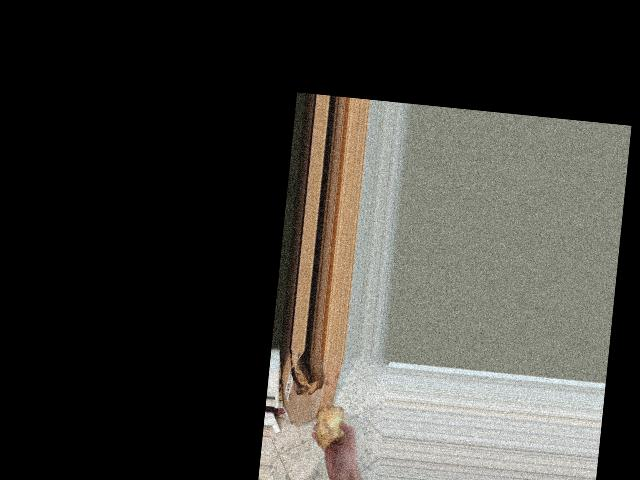onion: (312, 402, 352, 453)
